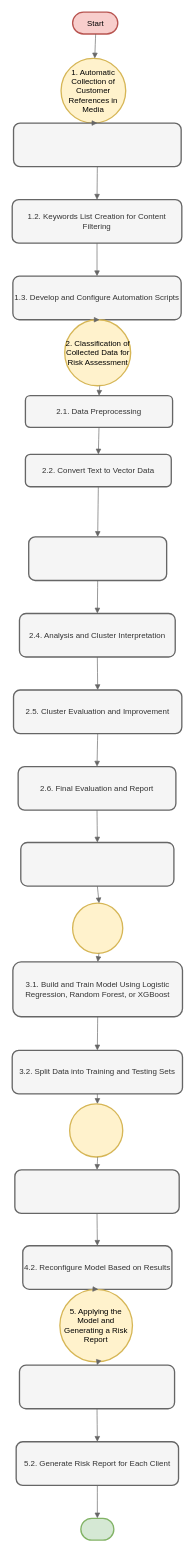
Some shapes in this 194 by 1552 pixel diagram are drawn without their labels. The shapes that lost their labels are listed below. From the top down, each one's centre as x and y in pixels, then its label:
(x=97, y=144): 1.1. Defining Resources for Data Collection
(x=97, y=558): 2.3. Clustering Using K-Means or DBSCAN
(x=97, y=864): 2.7. Assign Risk Level to Each Client
(x=97, y=928): 3. Model Training Based on Results
(x=96, y=1130): 4. Model Evaluation and Testing
(x=97, y=1191): 4.1. Evaluate Using Precision, Recall, F1-score
(x=96, y=1386): 5.1. Apply Model to New Data
(x=97, y=1528): End
